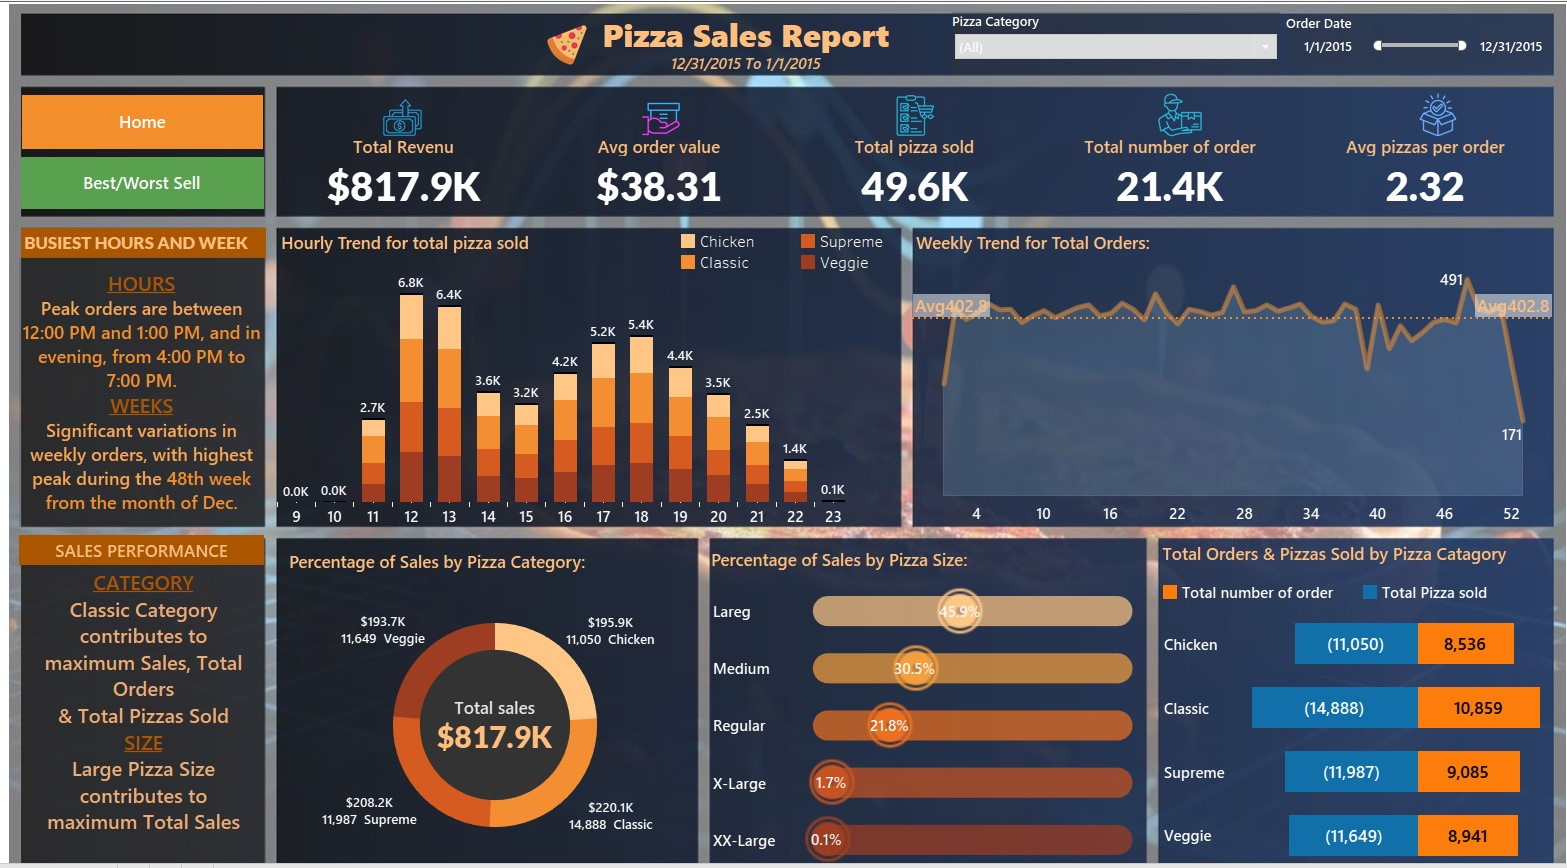

This screenshot's page, from the dashboard's own definition file:
{"tool":"tableau","page":{"name":"Home","canvas":[1600,900],"ordinal":1},"visuals":[{"type":"image","param":"C:/Users/Yonatan/Downloads/Pizza Tableau 1.jpg","box":[8,8,1584,884]},{"type":"filter","title":"Hourly Trend for total pizza sold","param":"[federated.1r2u2uz0ve9ae711u20g30o8jtuh].[none:pizza_category:nk]","box":[964,20,328,62]},{"type":"text","box":[611,22,302,39]},{"type":"filter","title":"Hourly Trend for total pizza sold","param":"[federated.1r2u2uz0ve9ae711u20g30o8jtuh].[none:order_date:qk]","box":[1298,22,268,57]},{"type":"image","param":"D:/Data Analyis/3/Pizza Sales Images/pizza-slice.png","box":[546,32,65,41]},{"type":"worksheet","title":"Date Range","mark":"Automatic","box":[670,56,175,29]},{"type":"image","param":"D:/Data Analyis/3/Pizza Sales Images/delivery-man.png","box":[1143,100,97,45]},{"type":"image","param":"D:/Data Analyis/3/Pizza Sales Images/order (1).png","box":[1398,101,104,43]},{"type":"image","param":"D:/Data Analyis/3/Pizza Sales Images/order-delivery.png","box":[861,102,133,42]},{"type":"dashboard-object","box":[34,103,241,54]},{"type":"image","param":"D:/Data Analyis/3/Pizza Sales Images/profit-growth.png","box":[378,103,72,44]},{"type":"image","param":"D:/Data Analyis/3/Pizza Sales Images/shipping-box.png","box":[627,105,91,43]},{"type":"worksheet","title":"KPI Banner","mark":"Automatic","box":[288,144,1277,80]},{"type":"dashboard-object","box":[33,165,243,52]},{"type":"worksheet","title":"Hourly Trend for total pizza sold","mark":"Bar","rows":["Calculation_1035546458915016707","Calculation_1035546458915016707"],"cols":["order_time"],"box":[289,235,576,299]},{"type":"worksheet","title":"Weekly Trend for Total Orders:","mark":"Area","rows":["Calculation_1035546458913816577","Calculation_1035546458913816577"],"cols":["order_date"],"box":[924,235,642,299]},{"type":"text","box":[33,236,245,30]},{"type":"legend","title":"Hourly Trend for total pizza sold","param":"[federated.1r2u2uz0ve9ae711u20g30o8jtuh].[none:pizza_category:nk]","box":[690,239,245,62]},{"type":"text","box":[31,265,245,270]},{"type":"text","box":[31,543,245,30]},{"type":"text","box":[1171,546,351,30]},{"type":"text","box":[33,547,245,329]},{"type":"worksheet","title":"Percentage of Sales by Pizza Size:","mark":"Line","rows":["pizza_size"],"box":[719,552,440,324]},{"type":"worksheet","title":"Percentage of Sales by Pizza Category:","mark":"Pie","rows":["Calculation_657244090376400897","Calculation_657244090376433667"],"box":[297,554,420,320]},{"type":"legend","title":"Total Pizzas Sold by Pizza Category:","param":"[federated.1r2u2uz0ve9ae711u20g30o8jtuh].[:Measure Names]","box":[1172,590,419,38]},{"type":"worksheet","title":"Total Pizzas Sold by Pizza Category:","mark":"Automatic","rows":["pizza_category"],"box":[1170,620,396,255]}]}

Visuals, with their boxes in screenshot pixels (x1, y1, x2, y2), scaled from the page's 1600x900 canvas onto the 1567x868 screenshot:
image: box(8, 8, 1559, 860)
"Hourly Trend for total pizza sold" filter: box(944, 19, 1265, 79)
text: box(598, 21, 894, 59)
"Hourly Trend for total pizza sold" filter: box(1271, 21, 1534, 76)
image: box(535, 31, 598, 70)
"Date Range" worksheet: box(656, 54, 828, 82)
image: box(1119, 96, 1214, 140)
image: box(1369, 97, 1471, 139)
image: box(843, 98, 973, 139)
dashboard-object: box(33, 99, 269, 151)
image: box(370, 99, 441, 142)
image: box(614, 101, 703, 143)
"KPI Banner" worksheet: box(282, 139, 1533, 216)
dashboard-object: box(32, 159, 270, 209)
"Hourly Trend for total pizza sold" worksheet (Bar marks): box(283, 227, 847, 515)
"Weekly Trend for Total Orders:" worksheet (Area marks): box(905, 227, 1534, 515)
text: box(32, 228, 272, 257)
"Hourly Trend for total pizza sold" legend: box(676, 231, 916, 290)
text: box(30, 256, 270, 516)
text: box(30, 524, 270, 553)
text: box(1147, 527, 1491, 556)
text: box(32, 528, 272, 845)
"Percentage of Sales by Pizza Size:" worksheet (Line marks): box(704, 532, 1135, 845)
"Percentage of Sales by Pizza Category:" worksheet (Pie marks): box(291, 534, 702, 843)
"Total Pizzas Sold by Pizza Category:" legend: box(1148, 569, 1558, 606)
"Total Pizzas Sold by Pizza Category:" worksheet: box(1146, 598, 1534, 844)
